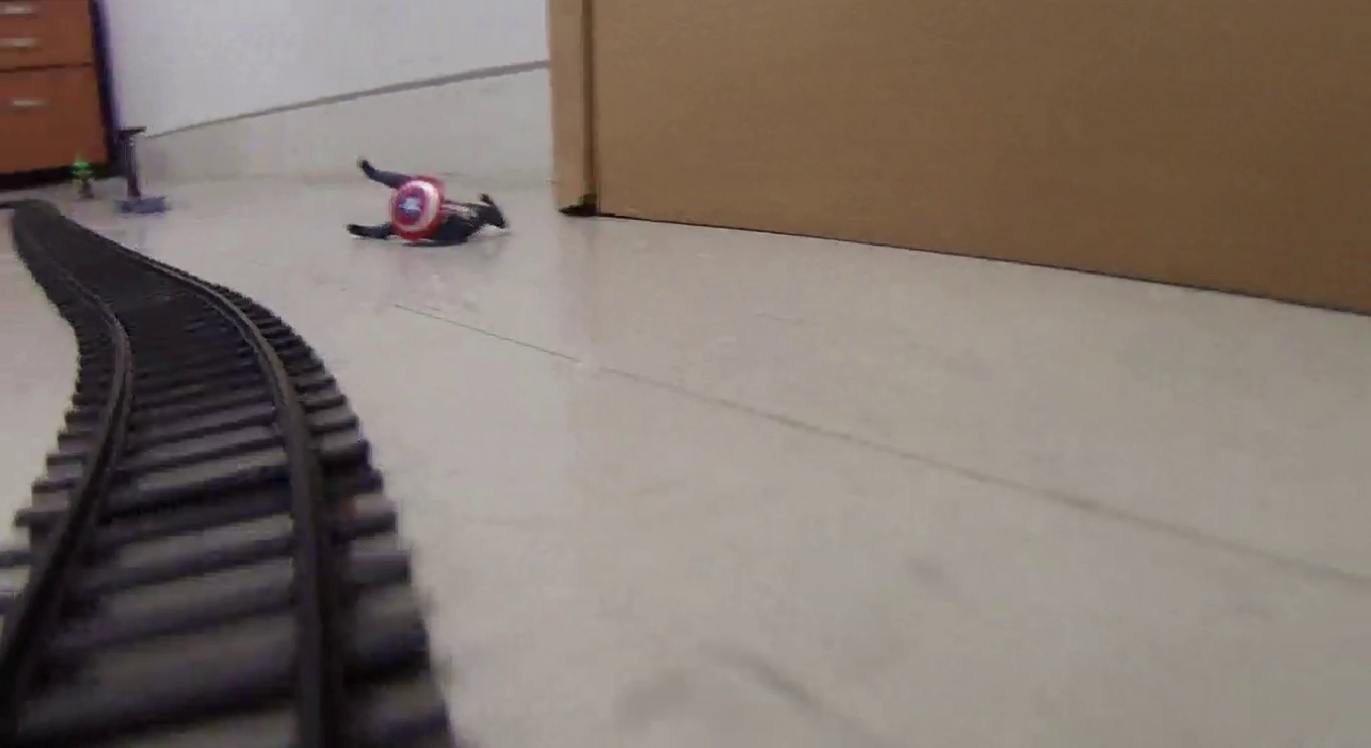people: (345, 157, 511, 250)
